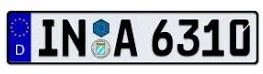0: (227, 16, 252, 57)
1: (202, 17, 226, 58)
3: (177, 18, 200, 57)
6: (150, 16, 174, 58)
A: (112, 17, 138, 58)
I: (39, 17, 58, 58)
N: (61, 16, 87, 58)
